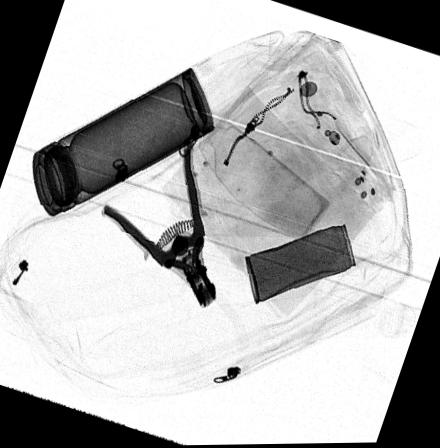Pliers: (99, 148, 218, 310)
